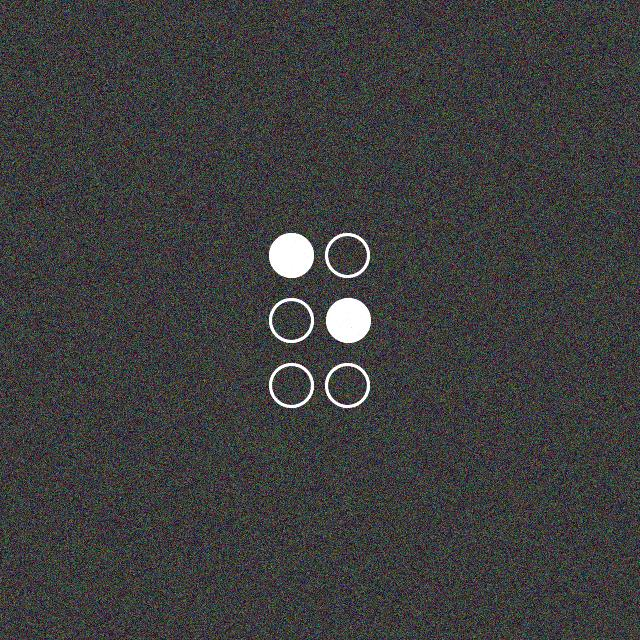E: (263, 226, 373, 416), (266, 226, 376, 415)
